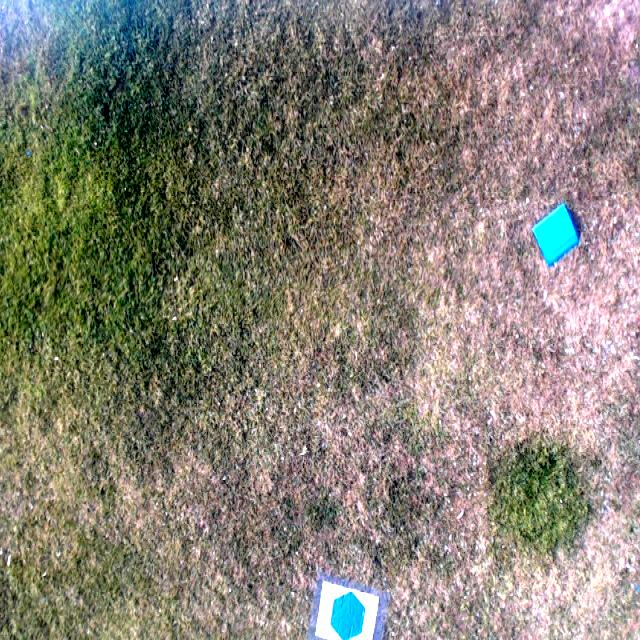blue_hexagon: (329, 589, 364, 640)
blue_square: (533, 202, 579, 266)
